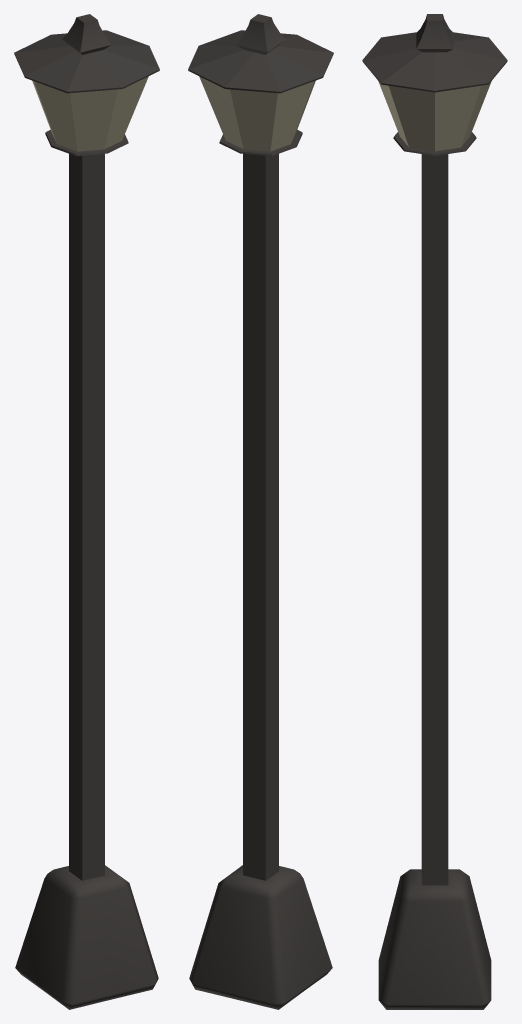
File: PS_LampPost.fbx
3 renders of one model, left to right at view 1: azimuth 30°, elevation 25°; view 2: azimuth 150°, elevation 25°; view 3: azimuth 270°, elevation 25°, orthographic.
Visible parts, largest first — view 1: PS_LampPost; view 2: PS_LampPost; view 3: PS_LampPost.
Part boxes in pixels (x1,y1,x2,y2): PS_LampPost: (14, 14, 159, 1009); PS_LampPost: (188, 14, 333, 1009); PS_LampPost: (362, 14, 507, 1009).
Bounding box in the file's own units: 0.4683 × 3.46 × 0.4683.
